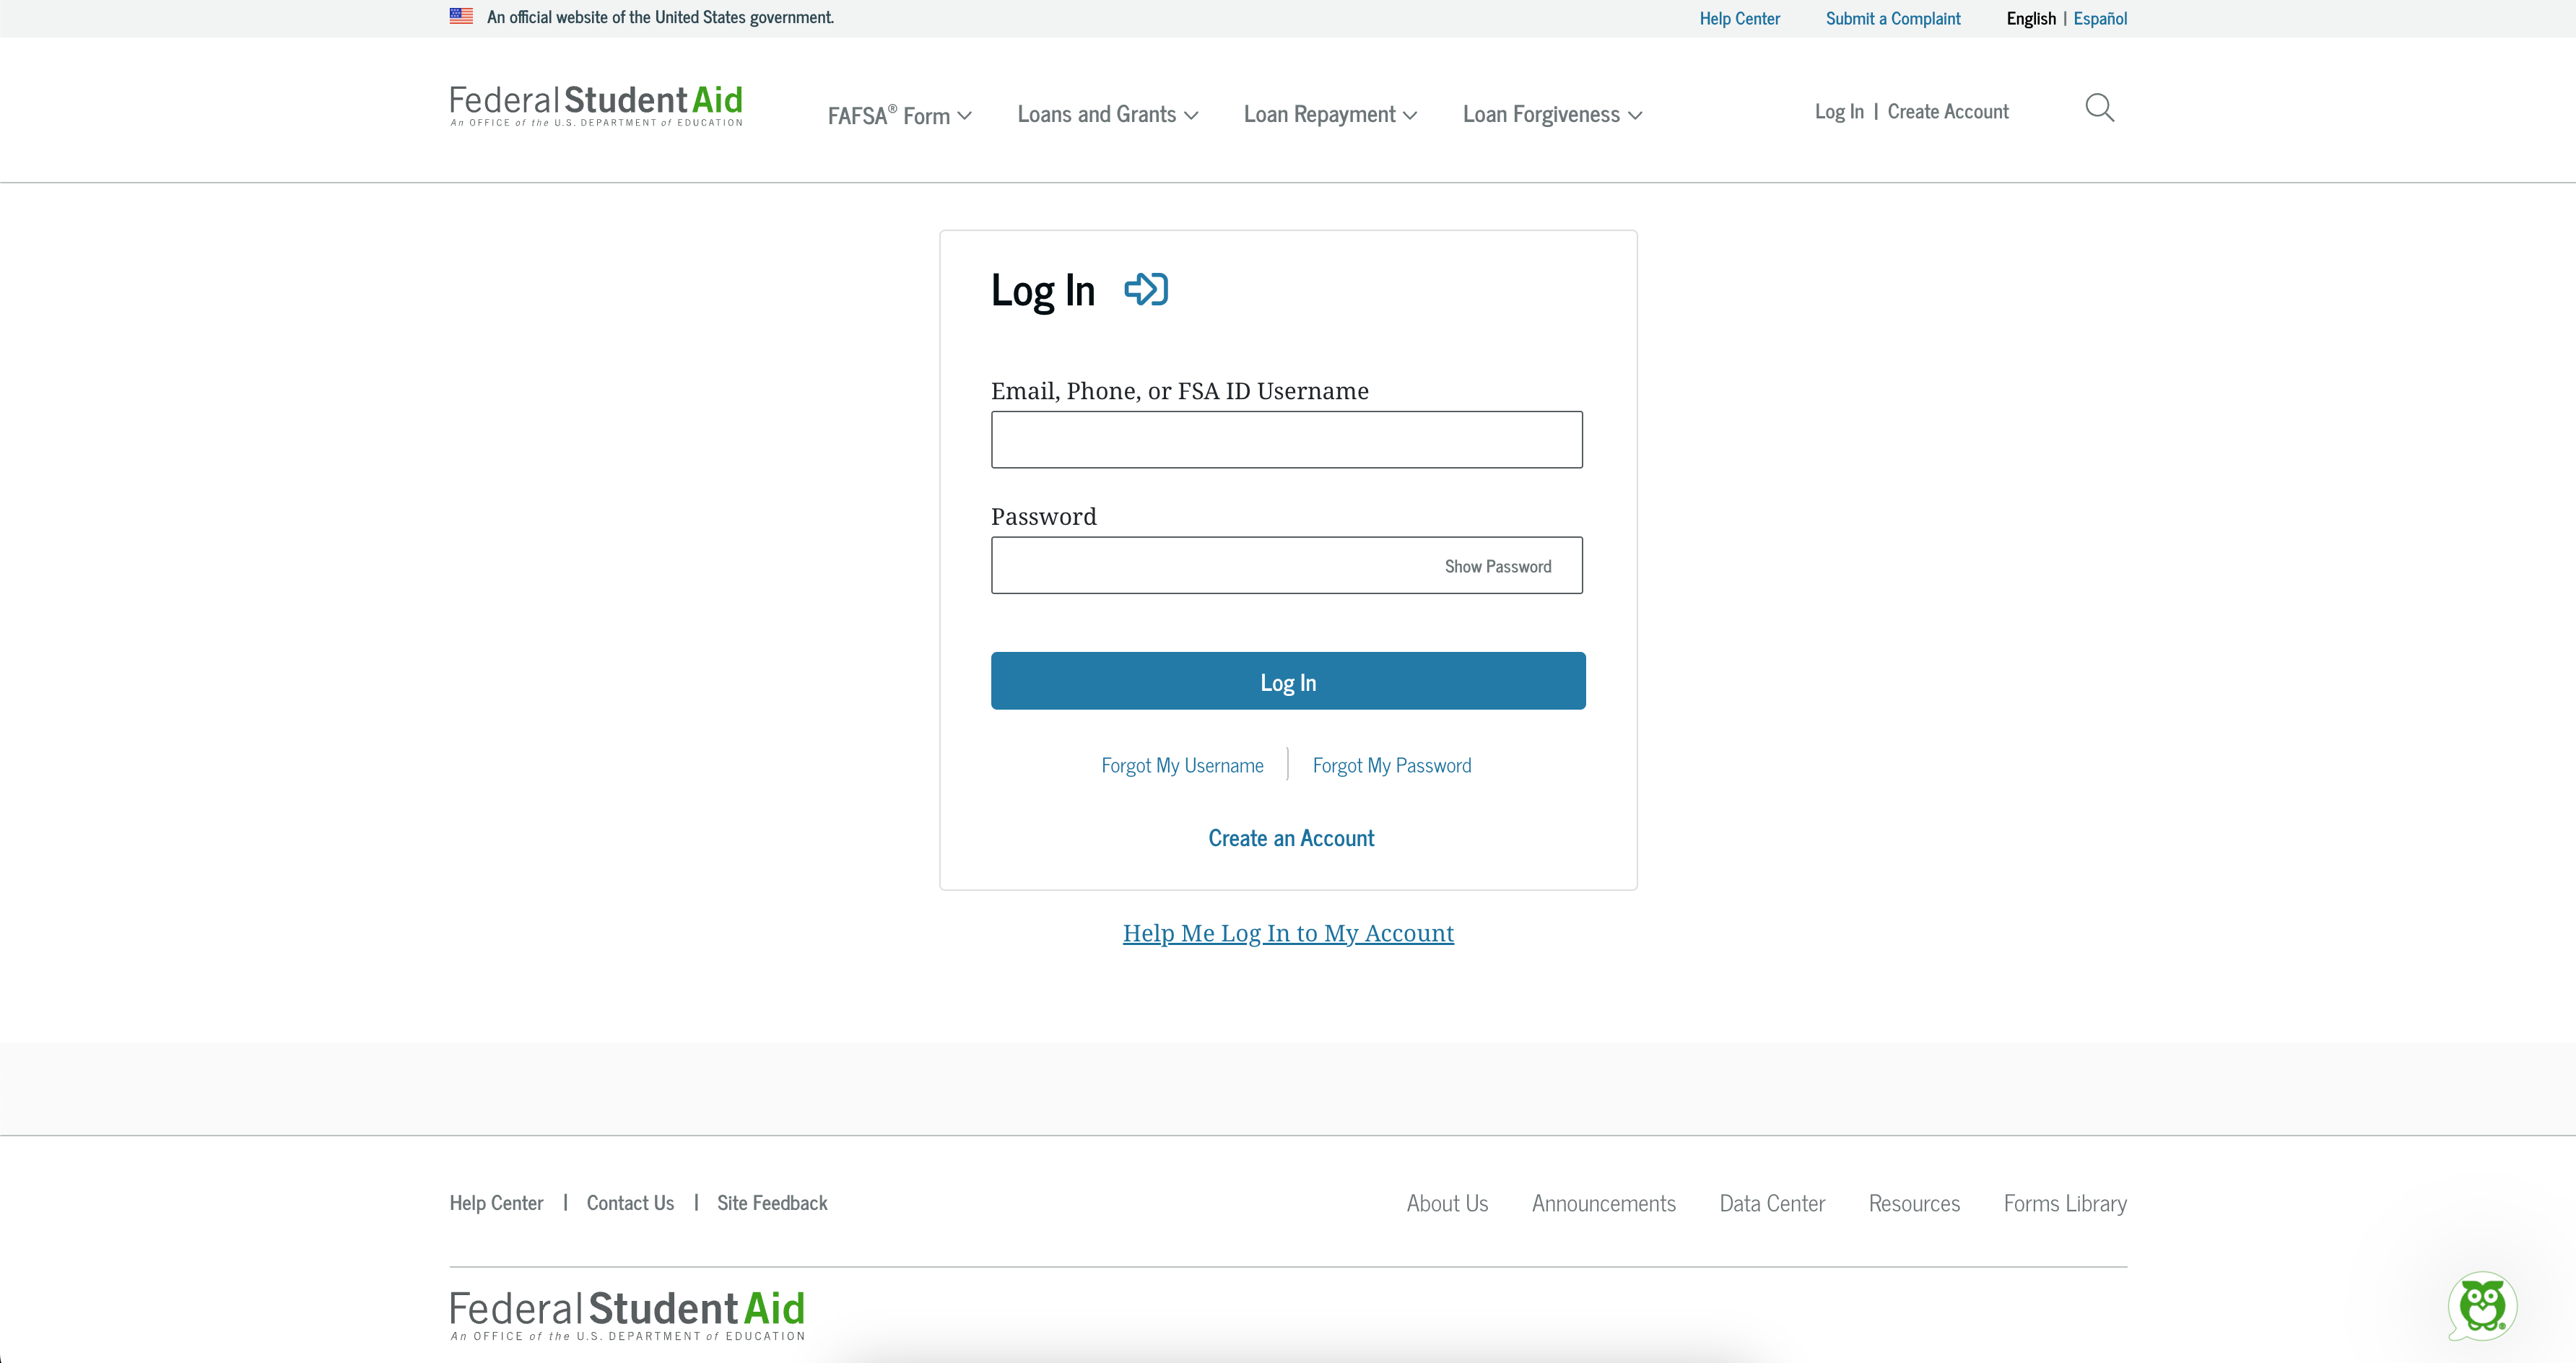button: (992, 653, 1588, 710)
input: (990, 411, 1584, 469), (992, 537, 1584, 595)
label: (992, 383, 1371, 404), (990, 506, 1101, 528)
